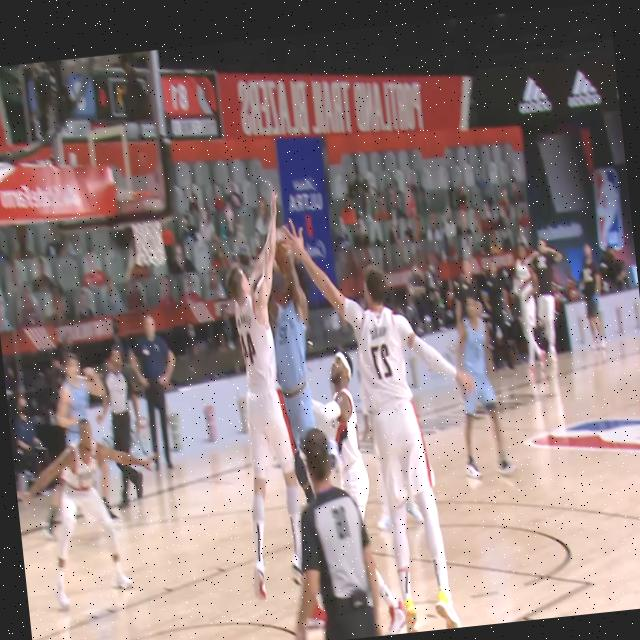foul: (195, 182, 338, 592)
no foul: (334, 180, 487, 636), (270, 426, 377, 640)
